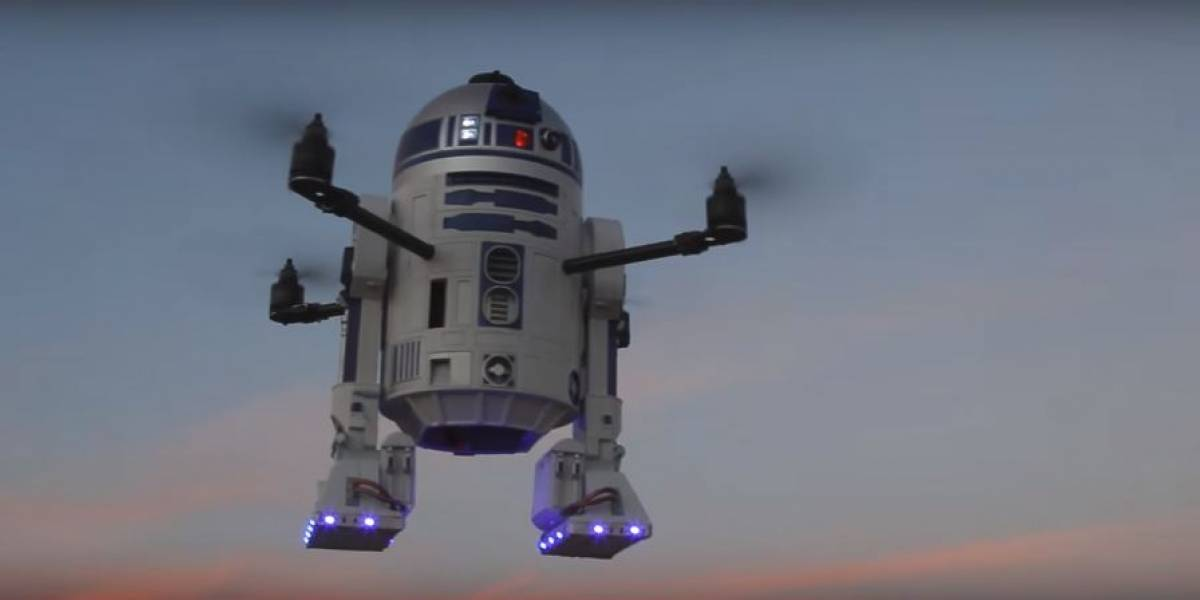r2d2: (315, 77, 654, 566)
